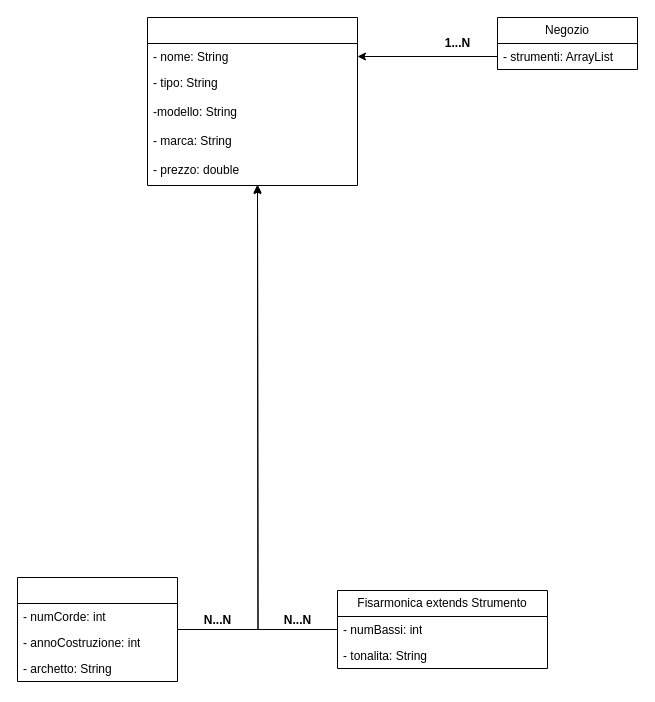
Some shapes in this 655 by 702 pixel diagram are drawn without their labels. The shapes that lost their labels are listed below. From the top down, each one's box as (x1, y1, x2, y2) in pixels, then its label:
(146, 16, 358, 186): Strumento (Masterclass)
(16, 576, 178, 682): Violino extends Strumento
